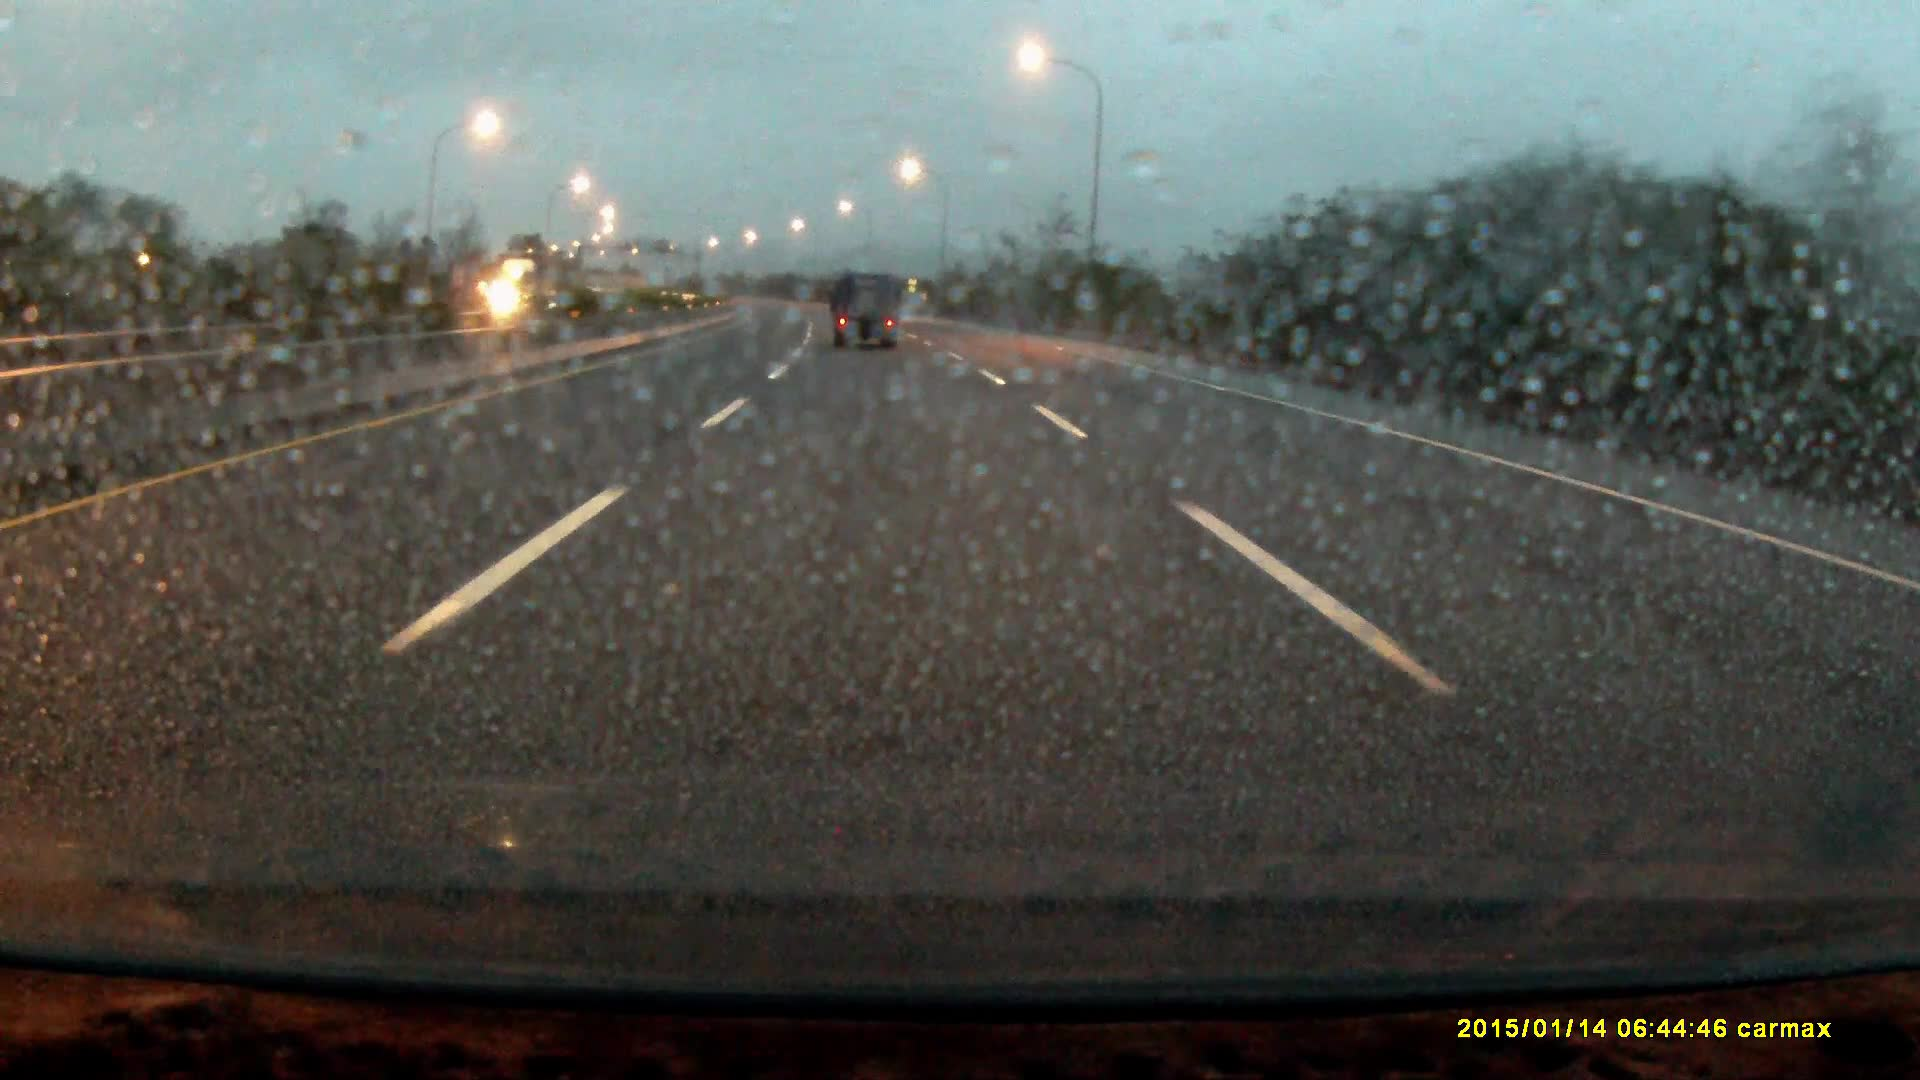vehicle: (484, 253, 578, 328), (832, 272, 903, 351)
